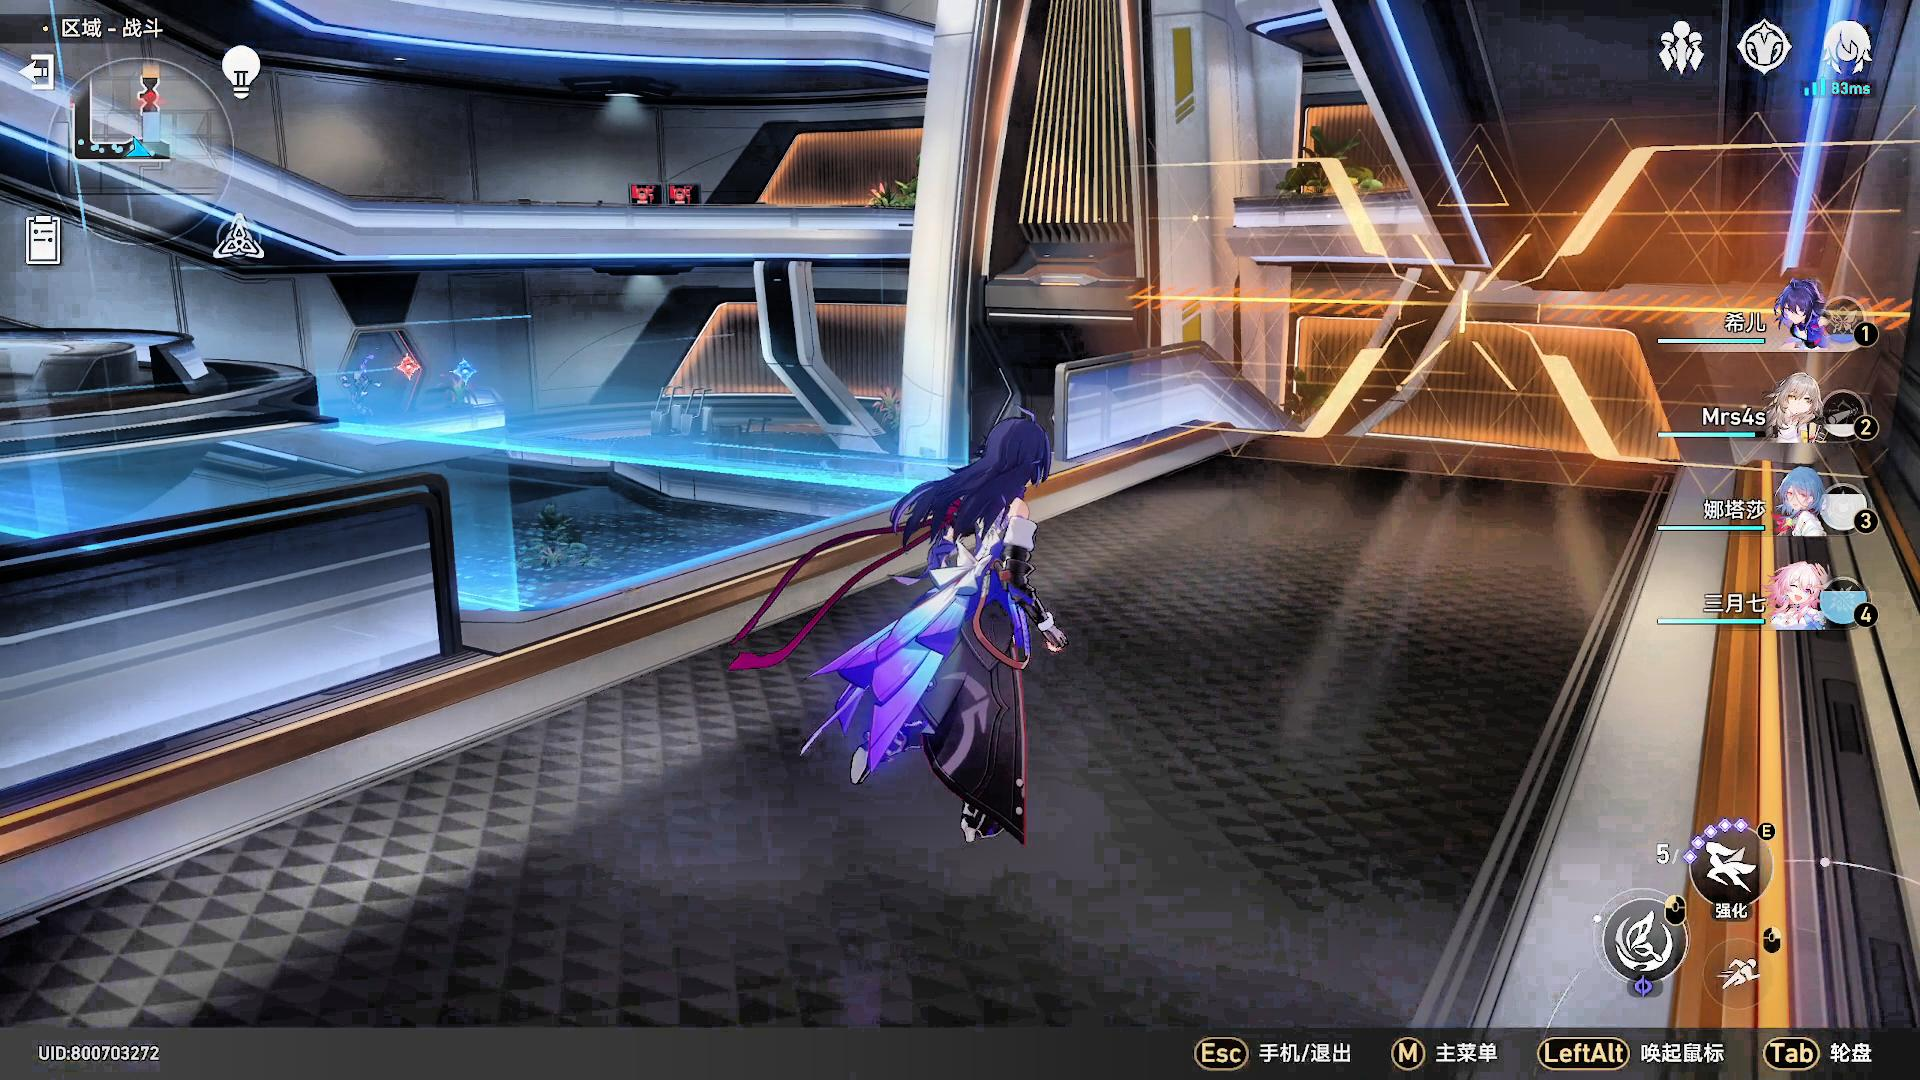BattleDoor: (396, 345, 426, 386)
Enemy: (328, 351, 386, 425)
EventDoor: (448, 349, 479, 386)
Self: (769, 363, 1092, 876)
